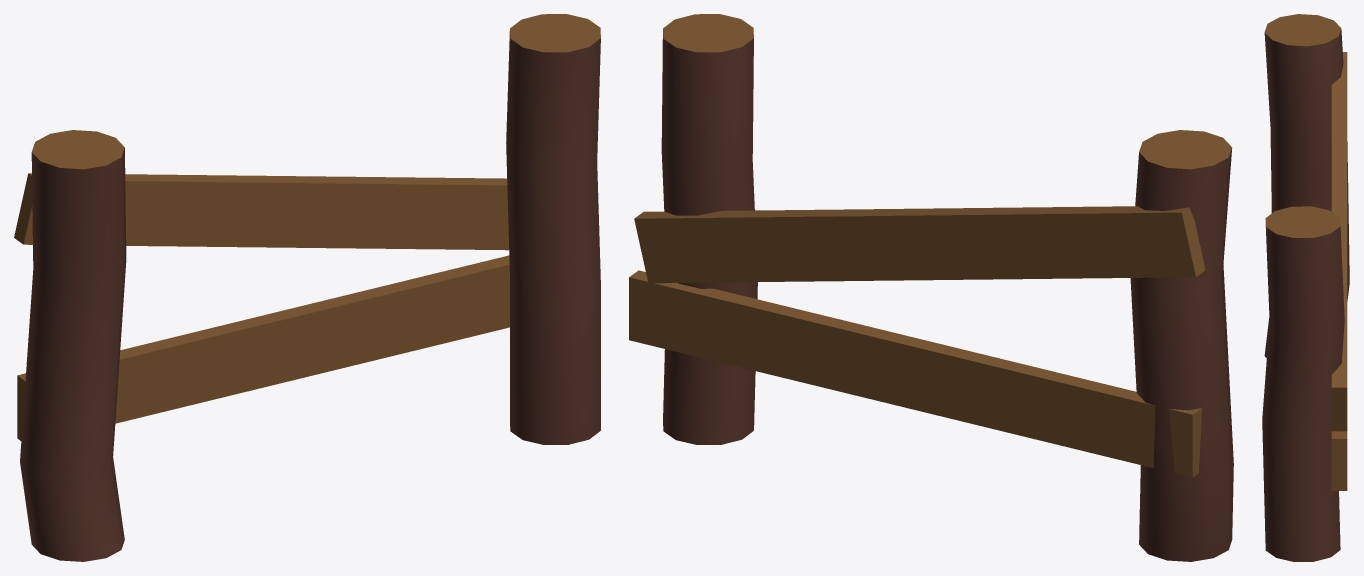
The model's file is WoodSemiRoundFence_Damaged3.fbx.
3 renders of one model, left to right at view 1: azimuth 30°, elevation 25°; view 2: azimuth 150°, elevation 25°; view 3: azimuth 270°, elevation 25°, orthographic. The views are drawn at different scales.
Visible parts, largest first — view 1: WoodSemiRoundFence_Damaged3; view 2: WoodSemiRoundFence_Damaged3; view 3: WoodSemiRoundFence_Damaged3.
Boxes of the visible parts, x1,y1,x2,y2 form: WoodSemiRoundFence_Damaged3: (14,14,600,561); WoodSemiRoundFence_Damaged3: (629,14,1233,561); WoodSemiRoundFence_Damaged3: (1262,14,1349,561).
Bounding box in the file's own units: 267 × 174 × 42.62.
